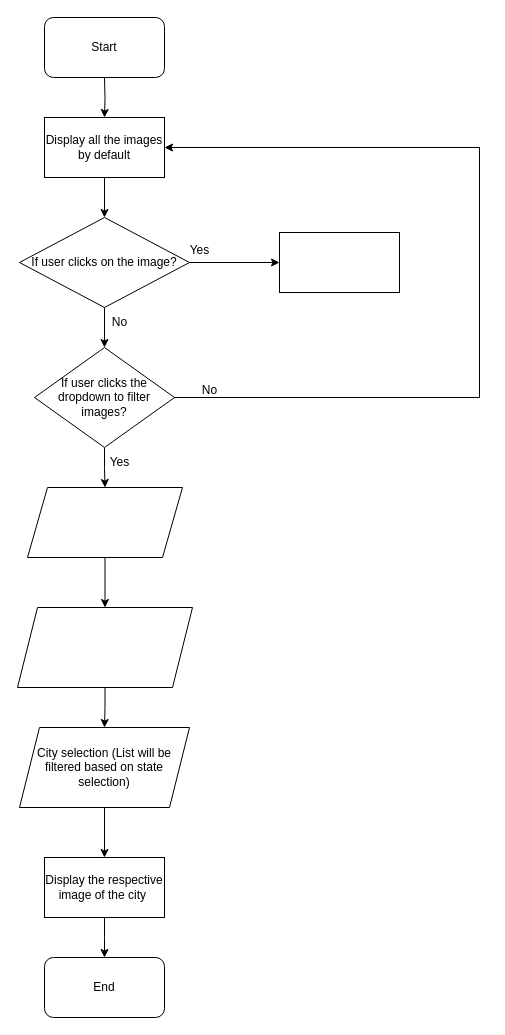
The diagram is 505 pixels wide and 1035 high, and some of its shapes have lost their labels. The shapes that lost their labels are listed below. From the top down, each one's centre as x and y in pixels, then its label:
At pixel 339 262: "A zoomed version of the image will be displayed".
At pixel 104 522: "Country selection (India, USA)".
At pixel 104 647: "State selection (List will be filtered based on country selection)".
